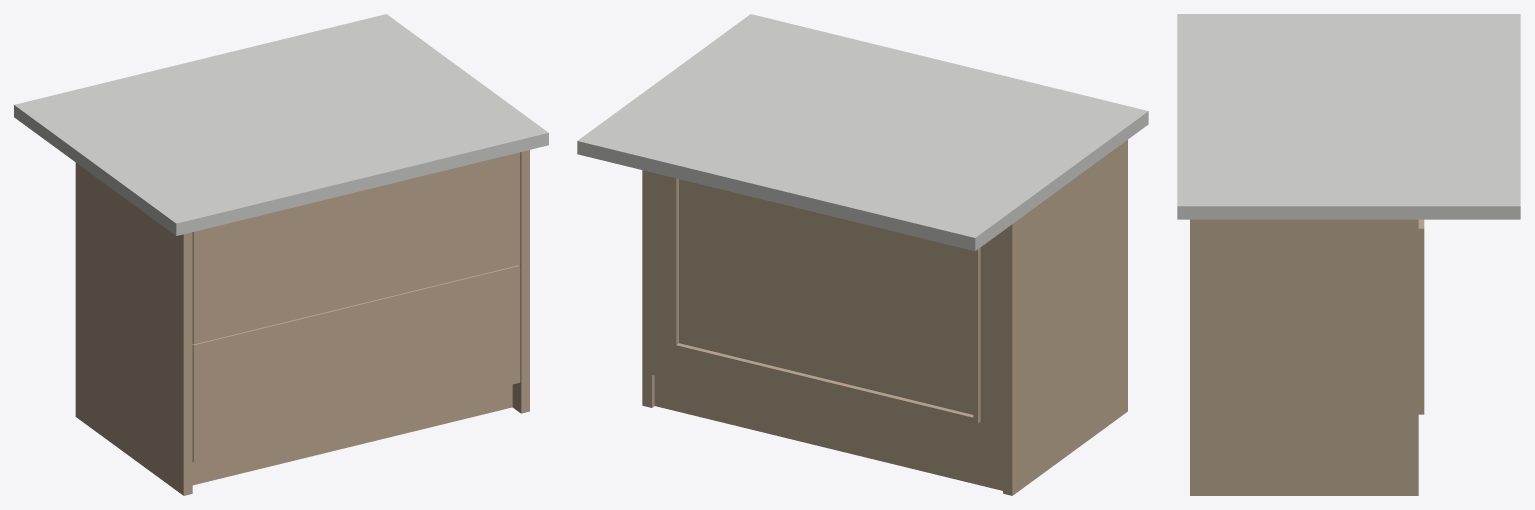
The model's file is isla.glb.
The picture shows the model from 3 angles, left to right: view 1: azimuth 30°, elevation 25°; view 2: azimuth 150°, elevation 25°; view 3: azimuth 270°, elevation 25°; orthographic projection. The views are drawn at different scales.
Visible parts, largest first — view 1: 0|Layer0|, 2|Layer0|A/1 Frontal(FQ3N-009A), 3|Layer0|A/2 Frontal(FQ3N-0097), 6|Lateral|Componente#1935, 10|Zoclo|Componente#1958, 8|Lateral|Componente#1935, 7|Lateral|Componente#1935, 9|Lateral|Componente#1935; view 2: 0|Layer0|, 11|Tapa|Componente#1959, 6|Lateral|Componente#1935, 12|Zoclo|Componente#1958, 15|Fijo|Componente#1965, 9|Lateral|Componente#1935, 13|Fijo|Componente#1962, 14|Fijo|Componente#1962, 7|Lateral|Componente#1935, 8|Lateral|Componente#1935; view 3: 0|Layer0|, 9|Lateral|Componente#1935, 14|Fijo|Componente#1962.
Part boxes in pixels (box(x1,y1,x2,y2)): 0|Layer0|: box(14, 14, 548, 235); 2|Layer0|A/1 Frontal(FQ3N-009A): box(192, 265, 520, 462); 3|Layer0|A/2 Frontal(FQ3N-0097): box(192, 152, 520, 344); 6|Lateral|Componente#1935: box(75, 162, 188, 495); 10|Zoclo|Componente#1958: box(192, 384, 512, 485); 8|Lateral|Componente#1935: box(512, 151, 525, 413); 7|Lateral|Componente#1935: box(188, 232, 192, 494); 9|Lateral|Componente#1935: box(525, 150, 529, 412); 0|Layer0|: box(577, 14, 1148, 251); 11|Tapa|Componente#1959: box(652, 172, 1002, 460); 6|Lateral|Componente#1935: box(1007, 140, 1127, 495); 12|Zoclo|Componente#1958: box(654, 375, 1002, 490); 15|Fijo|Componente#1965: box(672, 343, 977, 423); 9|Lateral|Componente#1935: box(642, 170, 647, 406); 13|Fijo|Componente#1962: box(973, 247, 980, 423); 14|Fijo|Componente#1962: box(671, 177, 678, 348); 7|Lateral|Componente#1935: box(1003, 228, 1007, 494); 8|Lateral|Componente#1935: box(647, 171, 654, 407); 0|Layer0|: box(1177, 14, 1520, 219); 9|Lateral|Componente#1935: box(1190, 219, 1418, 495); 14|Fijo|Componente#1962: box(1418, 228, 1424, 414).
Bounding box in the file's own units: 1.25 × 0.9 × 0.946.
